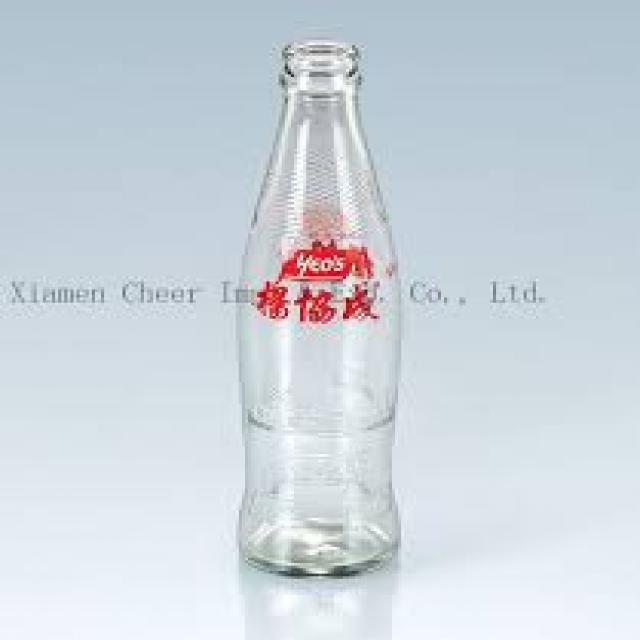glass-bottle: (236, 29, 407, 590)
